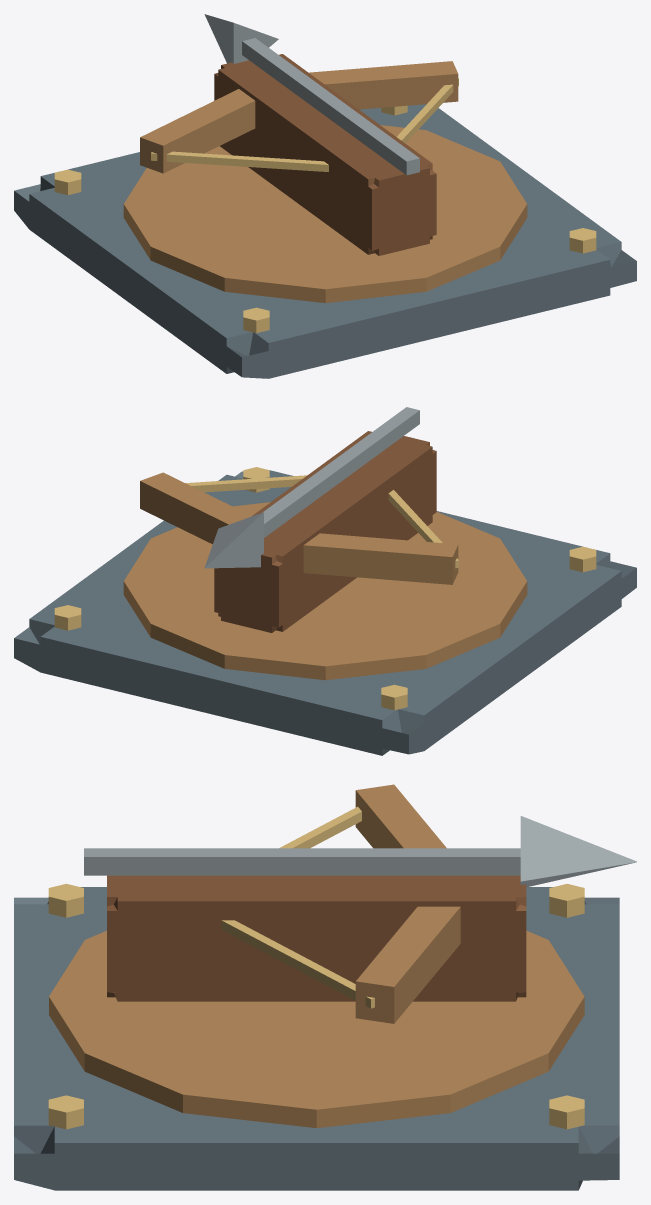
The model's file is TrapArrow.fbx.
3 renders of one model, top to bottom at view 1: azimuth 30°, elevation 25°; view 2: azimuth 150°, elevation 25°; view 3: azimuth 270°, elevation 25°, orthographic. The views are drawn at different scales.
Visible parts, largest first — view 1: TrapArrow.002; view 2: TrapArrow.002; view 3: TrapArrow.002.
Part boxes in pixels (bbox=[...]): TrapArrow.002: bbox=[14, 14, 636, 378]; TrapArrow.002: bbox=[14, 407, 636, 755]; TrapArrow.002: bbox=[14, 784, 636, 1190].
Size of the model in its own units: 104 by 44.93 by 107.
